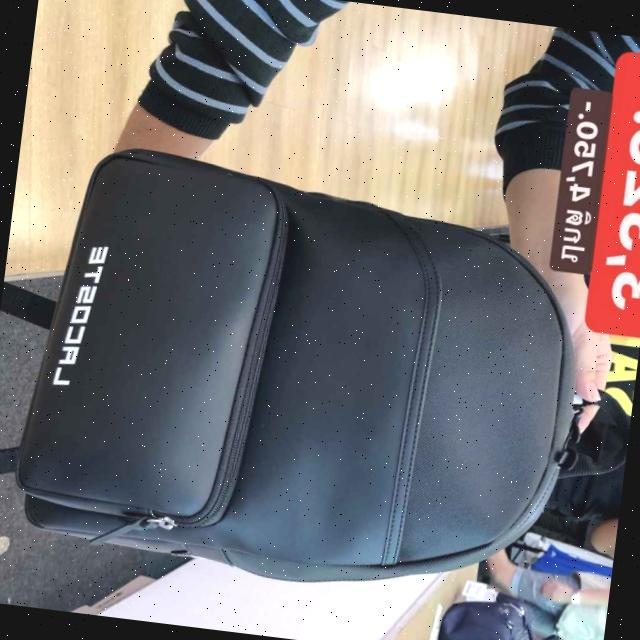Handbag: (10, 128, 622, 620)
